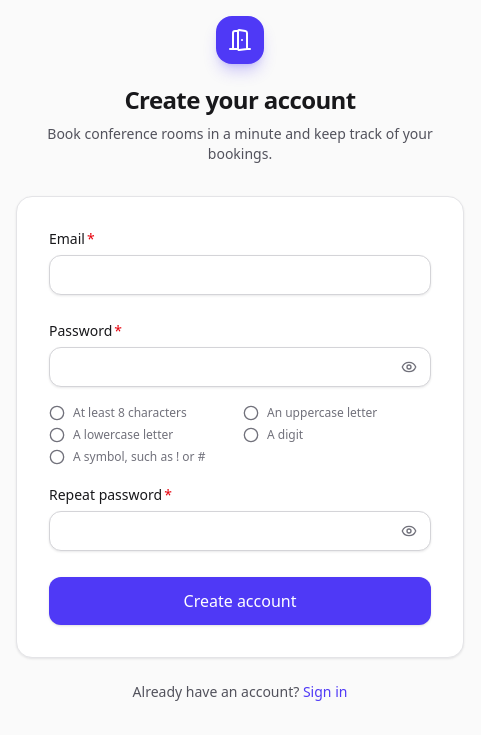
Test: RegisterComponent › shows a taken email next to the email field
The width and height of the screenshot is (481, 735).
Type "new@example.test" into the field labelled "Email". click: [240, 275]
box: [49,255,431,295]
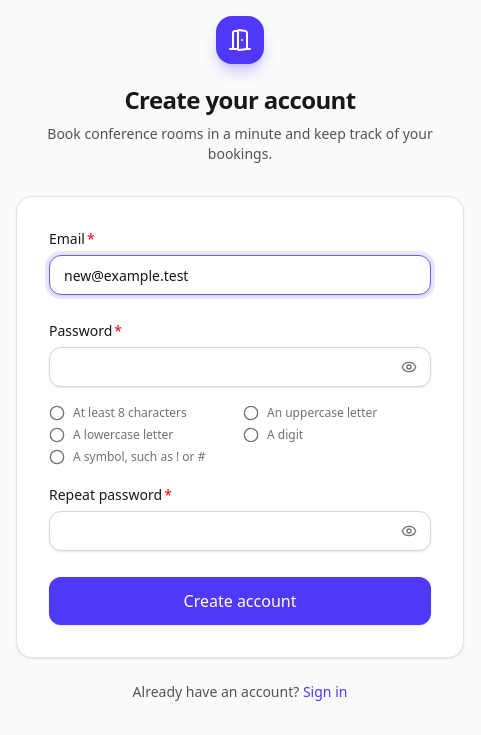
Type "Strong-Pass1!" into the password field labelled "Password". click: [240, 367]
box: [49,347,431,387]
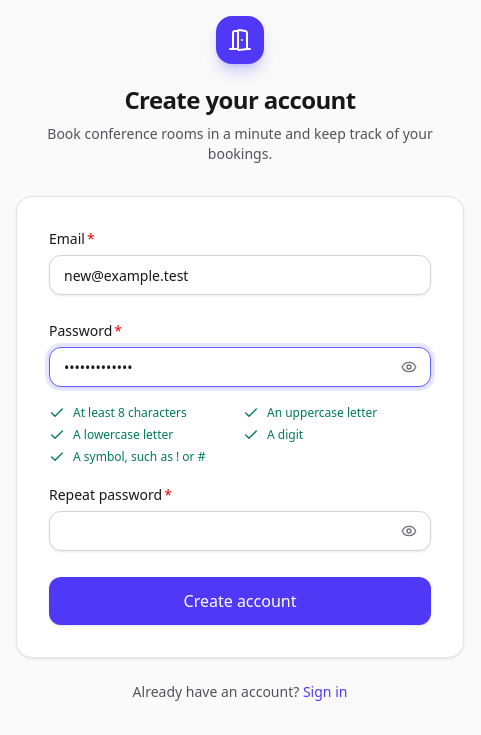
Type "Strong-Pass1!" into the password field labelled "Repeat password". click: [240, 531]
box: [49,511,431,551]
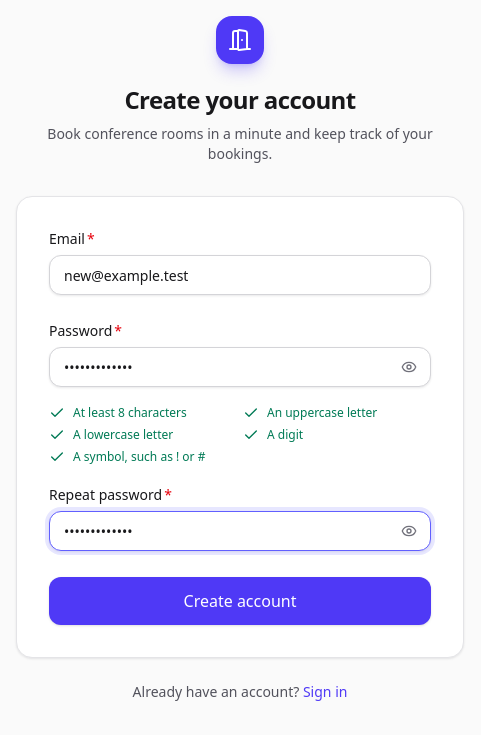
Click the button "Create account". click: [240, 601]
box: [49,577,431,625]
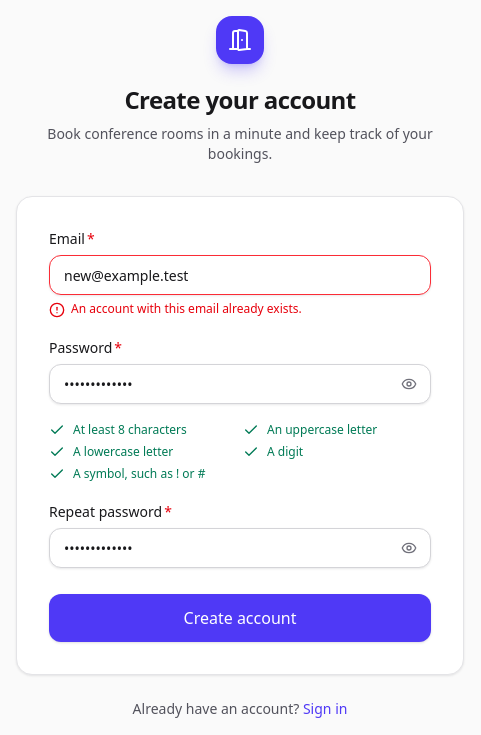
Check: the text "An account with this email already exists." is shown, box [49,300,302,318]
